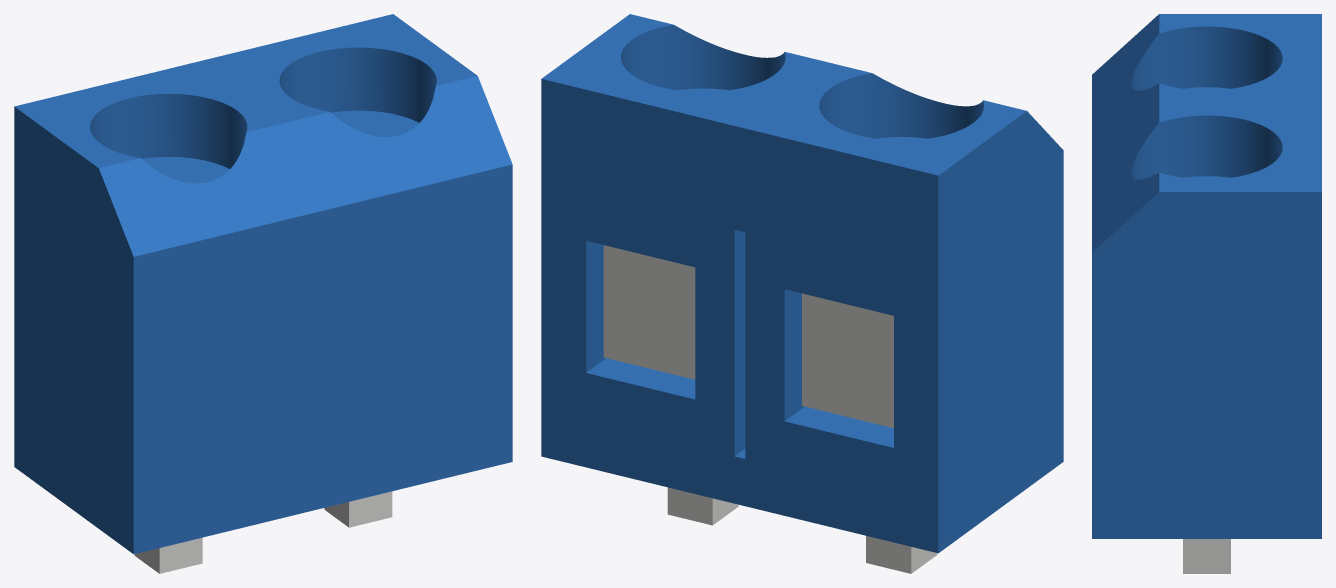
The model's file is terminal.glb.
The picture shows the model from 3 angles, left to right: view 1: azimuth 30°, elevation 25°; view 2: azimuth 150°, elevation 25°; view 3: azimuth 270°, elevation 25°; orthographic projection. The views are drawn at different scales.
Visible parts, largest first — view 1: terminal; view 2: terminal; view 3: terminal.
Boxes of the visible parts, x1=… form: terminal: x1=14, y1=14, x2=512, y2=573; terminal: x1=541, y1=14, x2=1063, y2=573; terminal: x1=1092, y1=14, x2=1321, y2=573.
Bounding box in the file's own units: 4.4 × 4.8 × 2.4.
